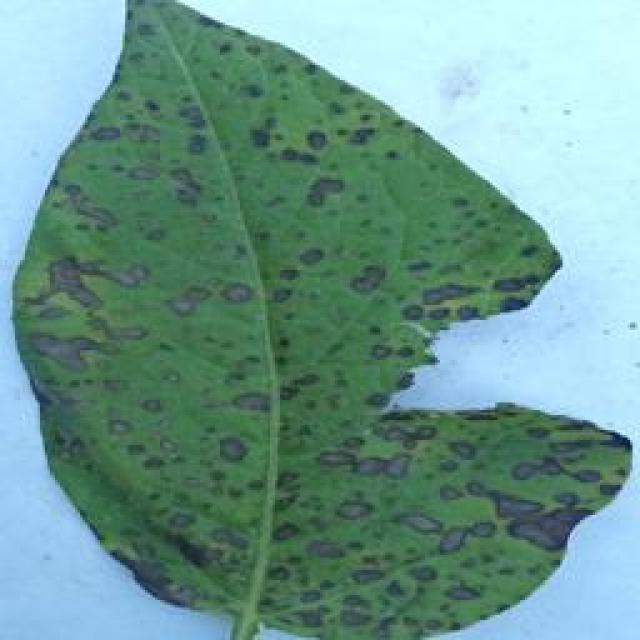Potato_Early_Blight: (2, 10, 632, 634)
